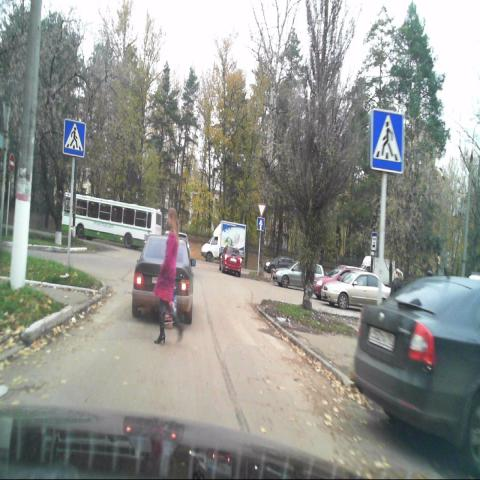2_4: (258, 203, 266, 217)
3_1: (9, 153, 15, 172)
5_18: (370, 231, 377, 256)
5_19_1: (370, 110, 403, 175), (63, 119, 85, 157)
5_6: (257, 219, 264, 231)
